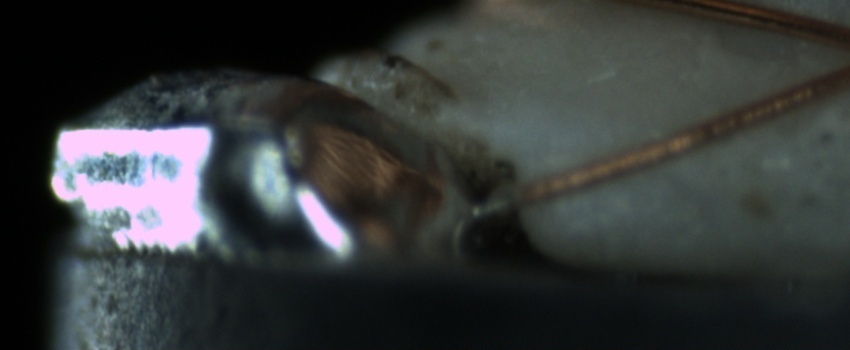TS: (469, 189, 520, 220)
